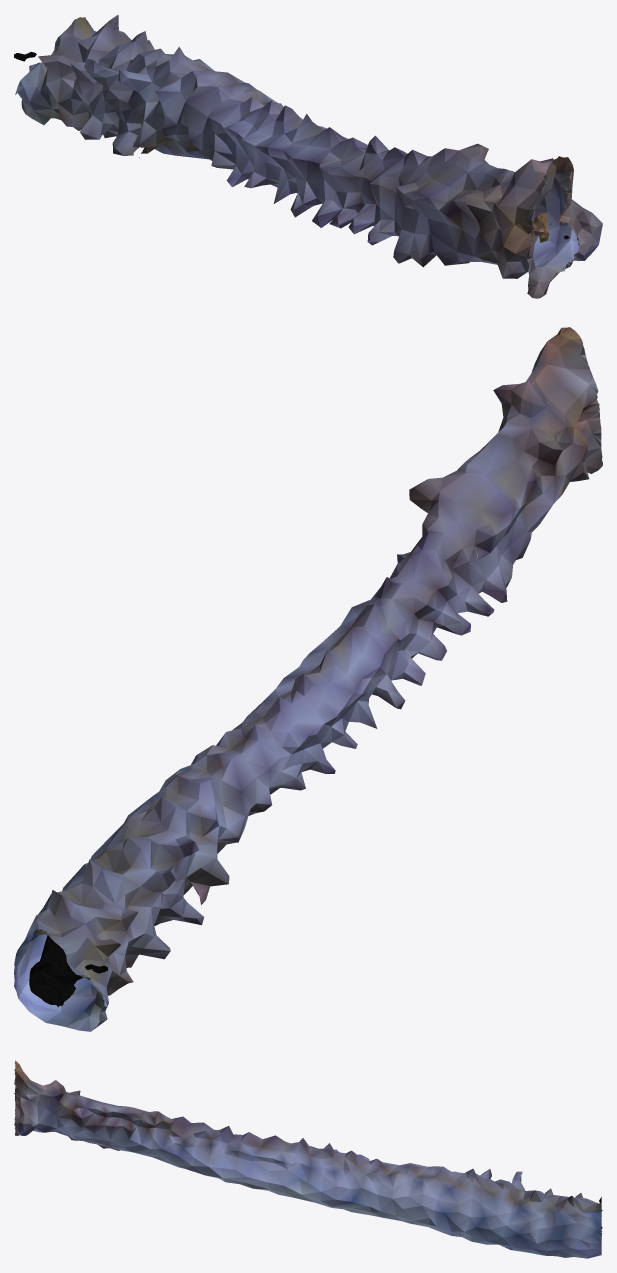
The picture shows the model from 3 angles, top to bottom: view 1: azimuth 30°, elevation 25°; view 2: azimuth 150°, elevation 25°; view 3: azimuth 270°, elevation 25°; orthographic projection. The views are drawn at different scales.
Size of the model in its own units: 0.0858 by 0.2151 by 0.6015.
